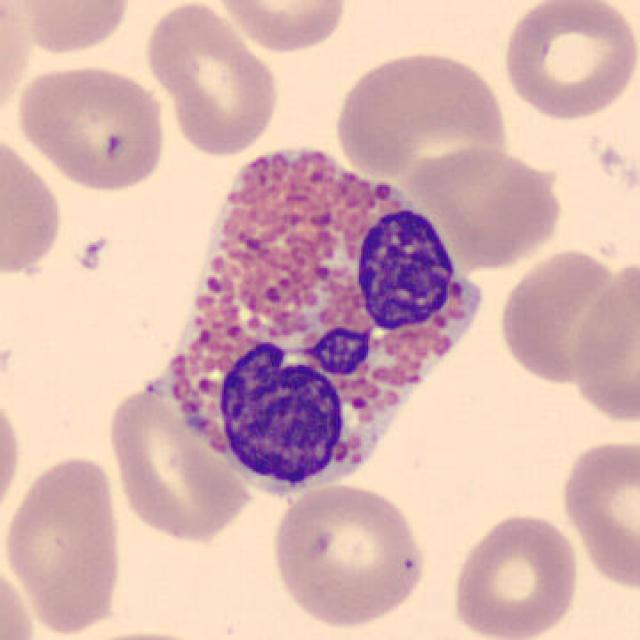Eosinophil: (150, 120, 492, 509)
RBC: (331, 44, 514, 187), (103, 377, 254, 545), (267, 480, 430, 631), (0, 452, 128, 636), (140, 0, 282, 157), (12, 58, 169, 194), (405, 143, 567, 271), (494, 243, 628, 390), (446, 508, 583, 640), (497, 0, 638, 123), (565, 252, 640, 430), (556, 434, 638, 594), (0, 129, 66, 284), (210, 0, 352, 55), (5, 0, 135, 56), (0, 2, 36, 130), (0, 382, 25, 530), (0, 553, 42, 640), (61, 626, 228, 640)
